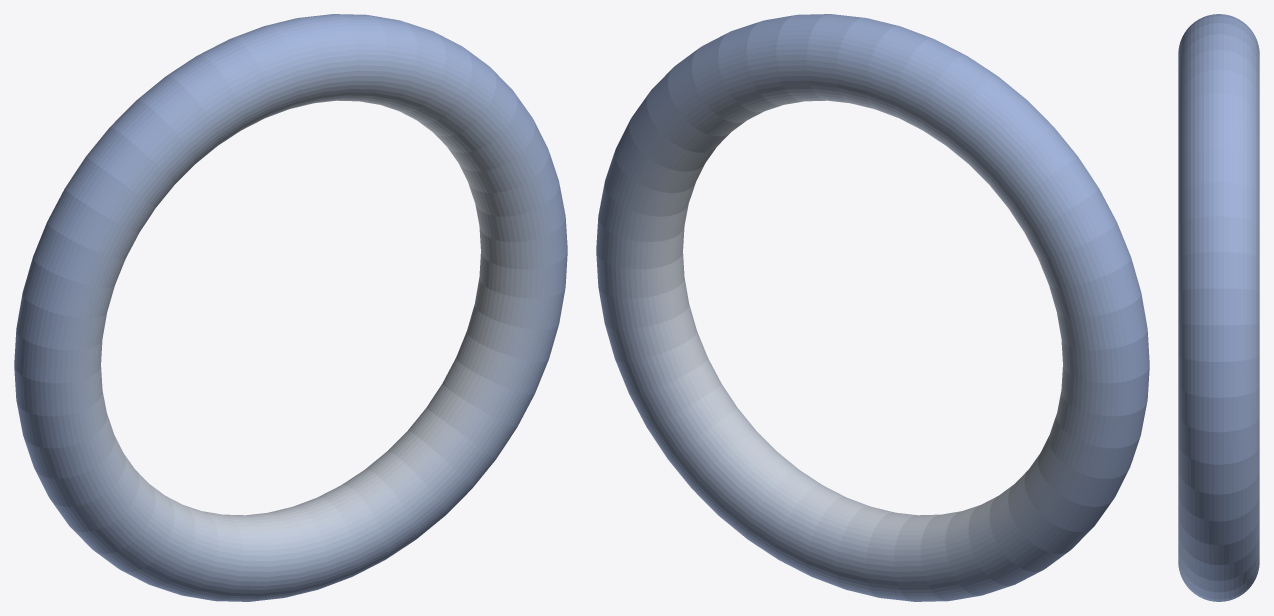
3 renders of one model, left to right at view 1: azimuth 30°, elevation 25°; view 2: azimuth 150°, elevation 25°; view 3: azimuth 270°, elevation 25°, orthographic. The views are drawn at different scales.
Visible parts, largest first — view 1: world; view 2: world; view 3: world.
Part boxes in pixels (<box>): world: <box>14,14,567,601</box>; world: <box>596,14,1149,601</box>; world: <box>1178,14,1259,601</box>.
Size of the model in its own units: 27.87 by 27.81 by 3.86.
